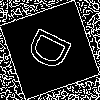D: (25, 25, 82, 78)
